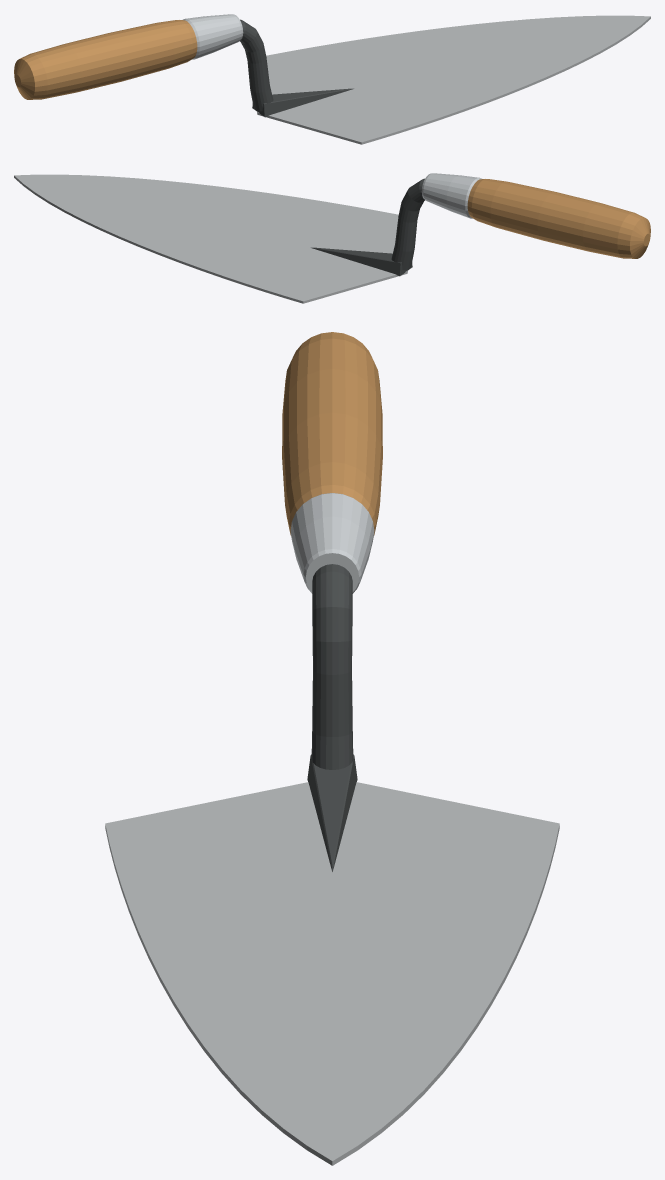
The picture shows the model from 3 angles, top to bottom: view 1: azimuth 30°, elevation 25°; view 2: azimuth 150°, elevation 25°; view 3: azimuth 270°, elevation 25°; orthographic projection. The views are drawn at different scales.
Parts seen in each view (by area): view 1: Thin_pointed_Philadelphia_blade, Closed_barrel_shaped_wooden_grip, Tapered_steel_handle_ferrule, Raised_offset_forged_shank, Triangular_forged_blade_seat; view 2: Thin_pointed_Philadelphia_blade, Closed_barrel_shaped_wooden_grip, Tapered_steel_handle_ferrule, Raised_offset_forged_shank, Triangular_forged_blade_seat; view 3: Thin_pointed_Philadelphia_blade, Closed_barrel_shaped_wooden_grip, Raised_offset_forged_shank, Tapered_steel_handle_ferrule, Triangular_forged_blade_seat.
Part boxes in pixels (bbox=[...]): Thin_pointed_Philadelphia_blade: bbox=[257, 15, 650, 144]; Closed_barrel_shaped_wooden_grip: bbox=[14, 20, 197, 99]; Tapered_steel_handle_ferrule: bbox=[183, 14, 243, 59]; Raised_offset_forged_shank: bbox=[240, 19, 273, 111]; Triangular_forged_blade_seat: bbox=[252, 88, 353, 117]; Thin_pointed_Philadelphia_blade: bbox=[14, 174, 407, 303]; Closed_barrel_shaped_wooden_grip: bbox=[467, 179, 650, 258]; Tapered_steel_handle_ferrule: bbox=[421, 173, 481, 218]; Raised_offset_forged_shank: bbox=[391, 178, 424, 270]; Triangular_forged_blade_seat: bbox=[311, 247, 412, 276]; Thin_pointed_Philadelphia_blade: bbox=[105, 782, 559, 1165]; Closed_barrel_shaped_wooden_grip: bbox=[282, 332, 382, 535]; Raised_offset_forged_shank: bbox=[311, 564, 353, 769]; Tapered_steel_handle_ferrule: bbox=[290, 493, 374, 593]; Triangular_forged_blade_seat: bbox=[307, 754, 357, 871].
Bounding box in the file's own units: 0.4494 × 0.078 × 0.1397.
